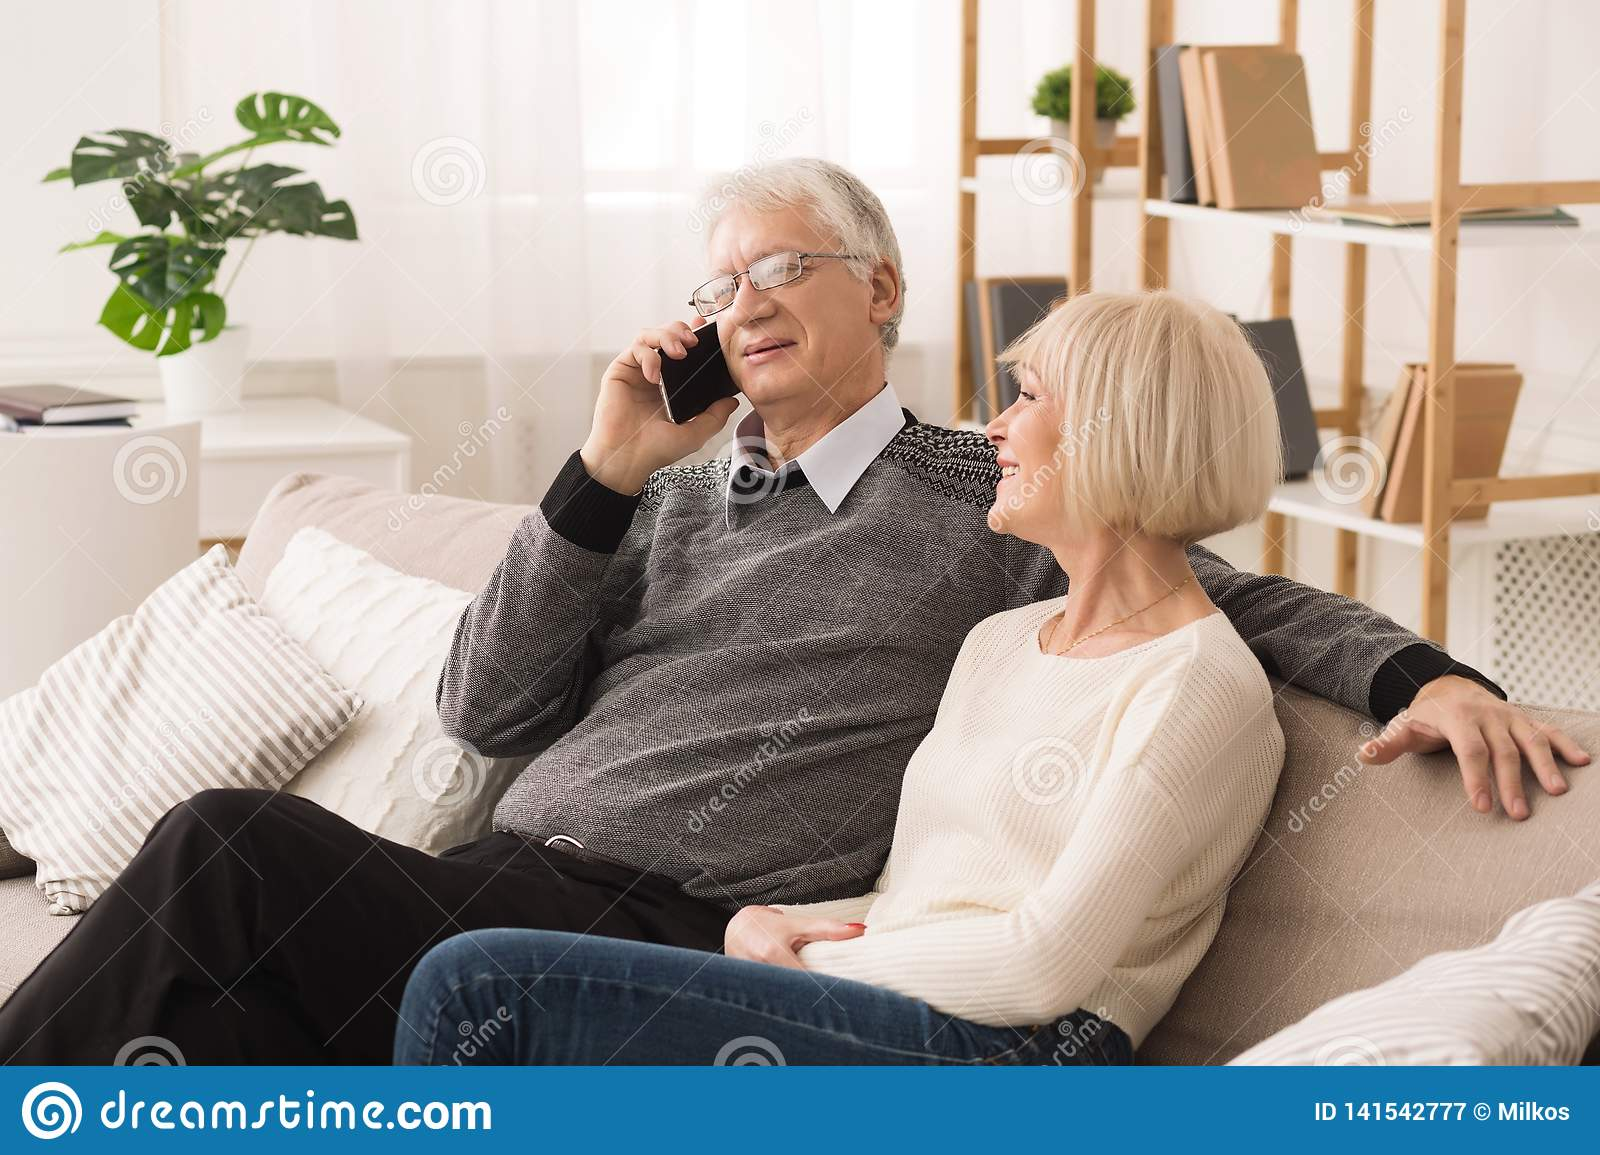phone: (657, 314, 740, 431)
talk: (590, 237, 825, 476)
